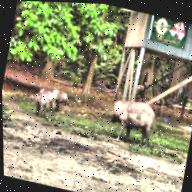boar: (92, 81, 161, 149), (26, 82, 56, 121), (48, 84, 76, 124)
